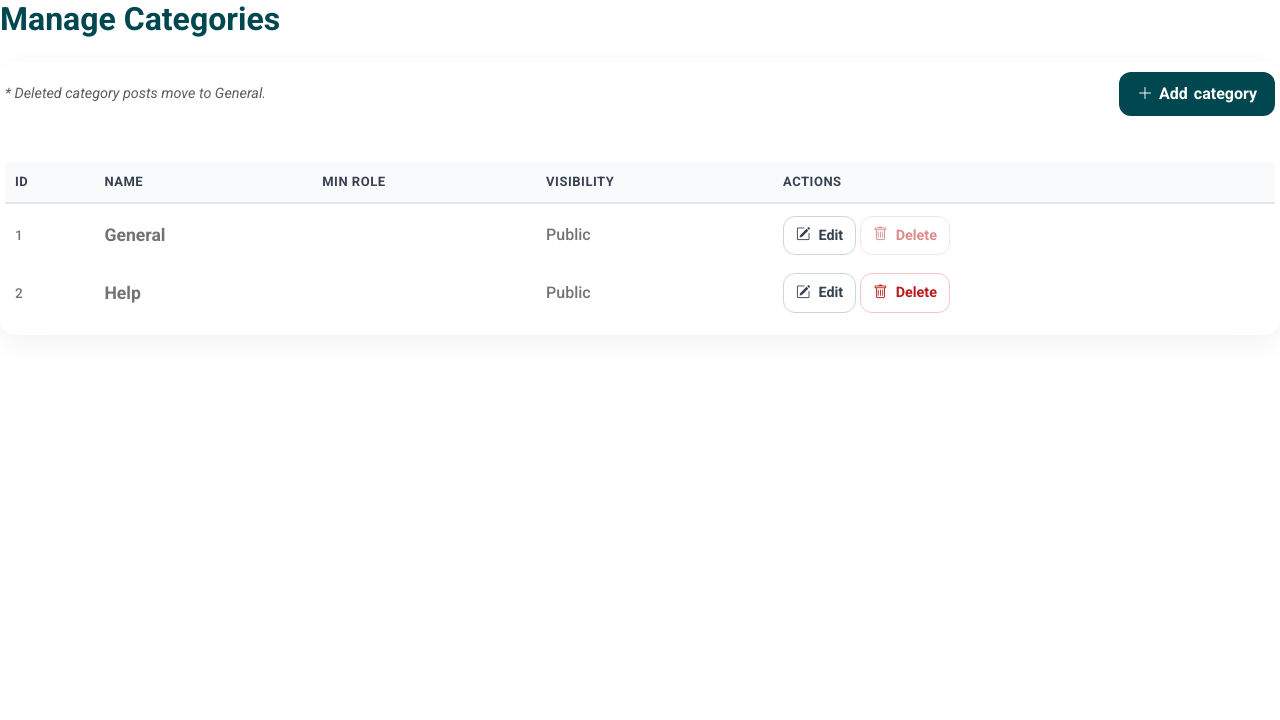
Test case: AdminCategories.vue › shows an inline error when the Add form is submitted with an empty name
This screenshot has width=1280, height=720.
Click the button with class "btn-add".
click(1197, 94)  # box top-left (1119, 72), bottom-right (1275, 116)
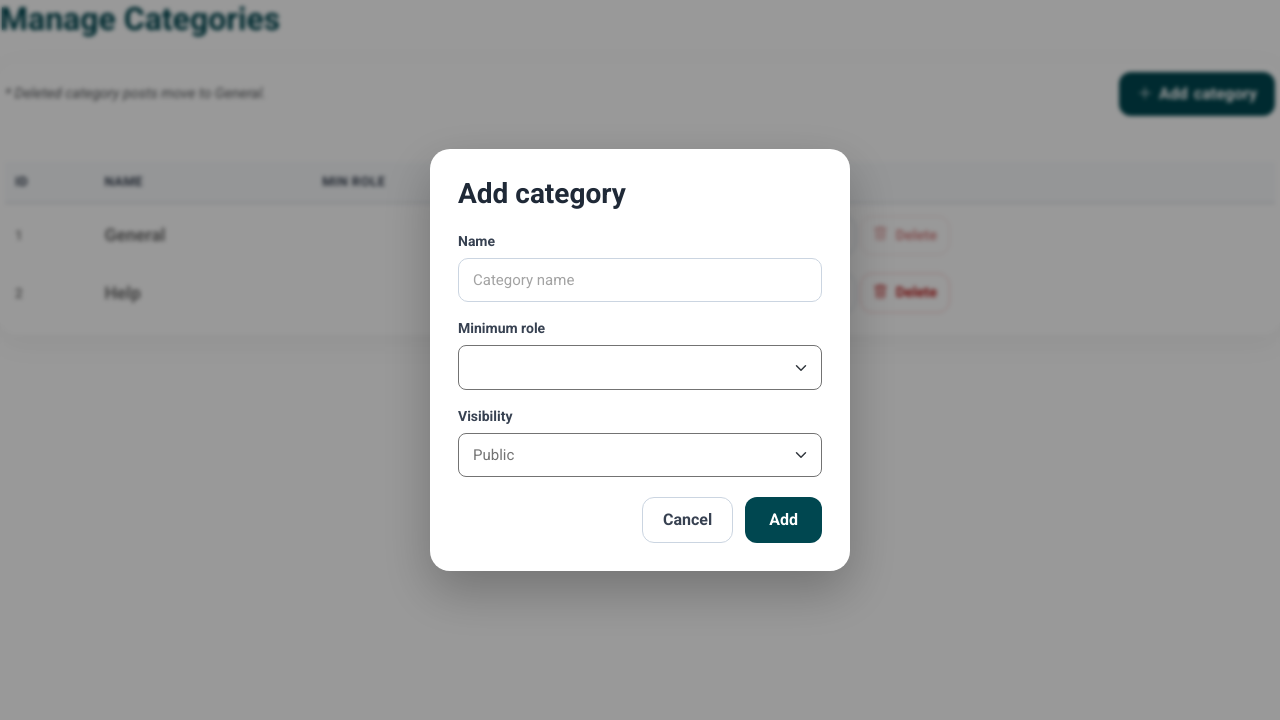
Click the button with class "btn-confirm".
click(784, 520)  # box top-left (745, 497), bottom-right (822, 543)
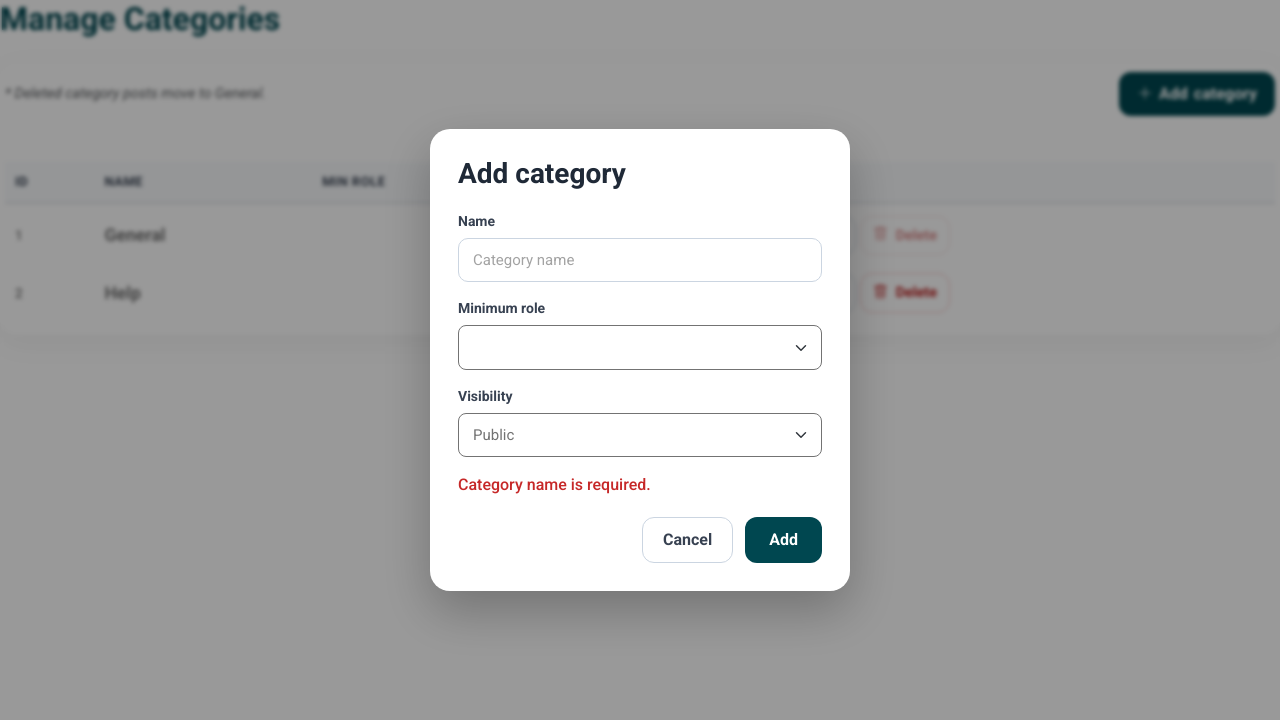
Expected: the text with class "err" shows "Category name is required", top-left (458, 475), bottom-right (651, 494)
